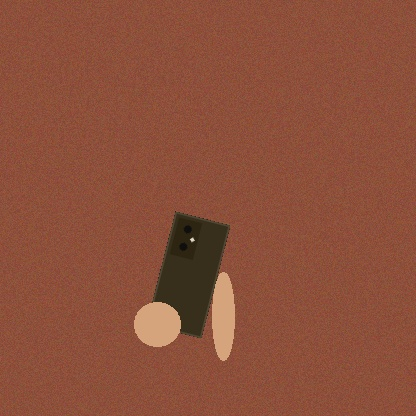cell_phone: (146, 211, 230, 338)
